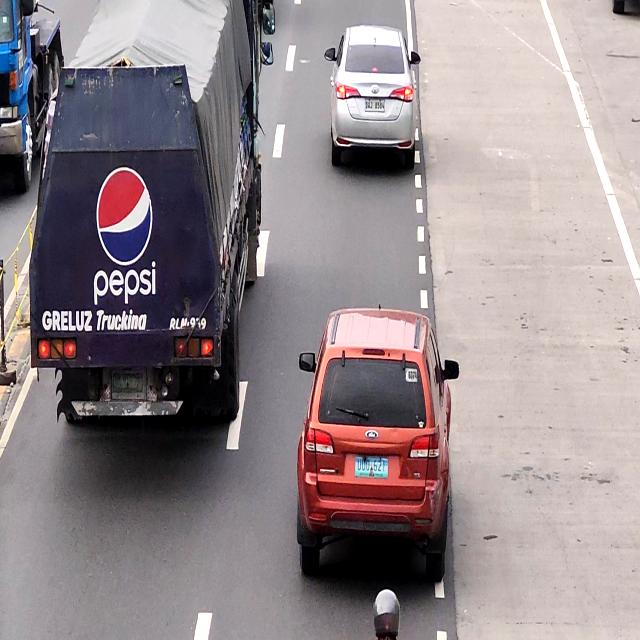Car: (303, 308, 447, 568), (331, 30, 417, 175)
License-Plate: (354, 450, 390, 482), (363, 98, 387, 112)
Truck: (43, 1, 256, 422)
